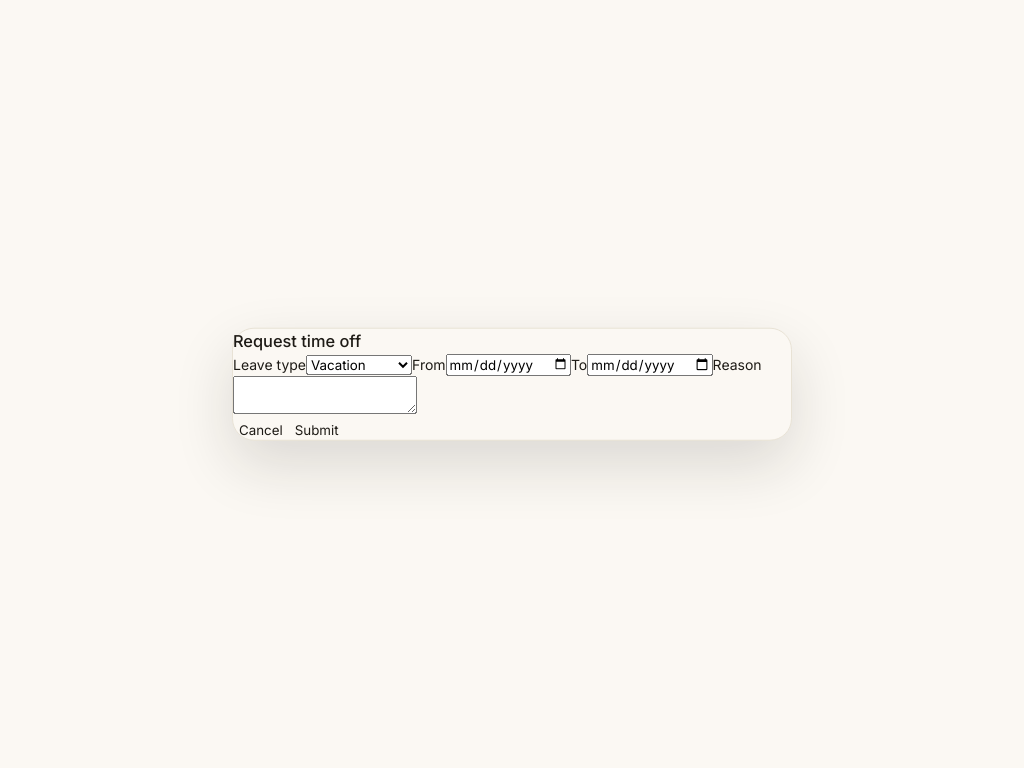
NewRequestModal › shows server validation error (zero days)
Select "Vacation" in the dropdown labelled "Leave type": (359, 364) x1=306 y1=354 x2=412 y2=374
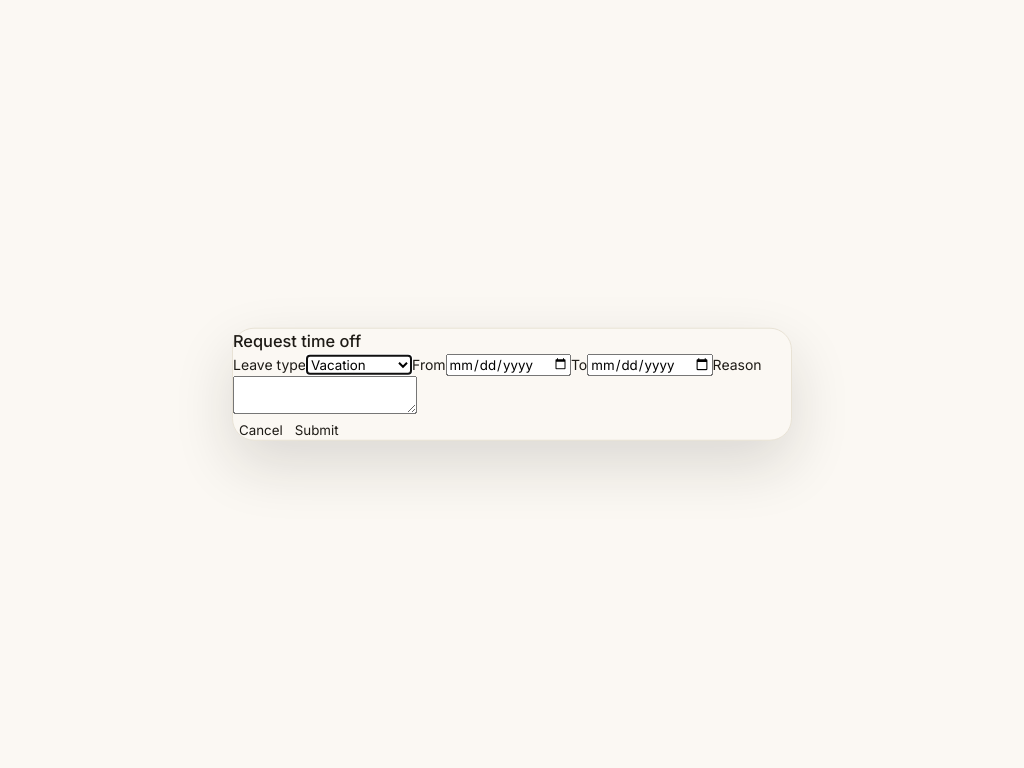
In the date field labelled "From": (508, 364) x1=446 y1=353 x2=571 y2=375, type "2026-06-06"
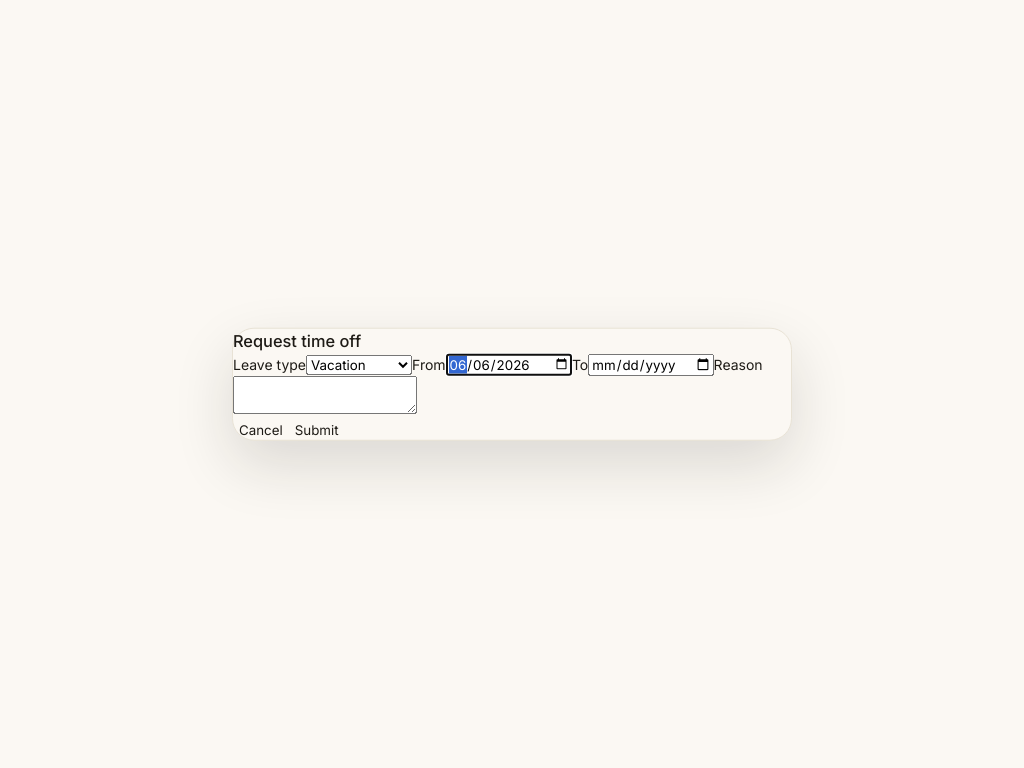
In the date field labelled "To": (651, 364) x1=588 y1=353 x2=714 y2=375, type "2026-06-07"
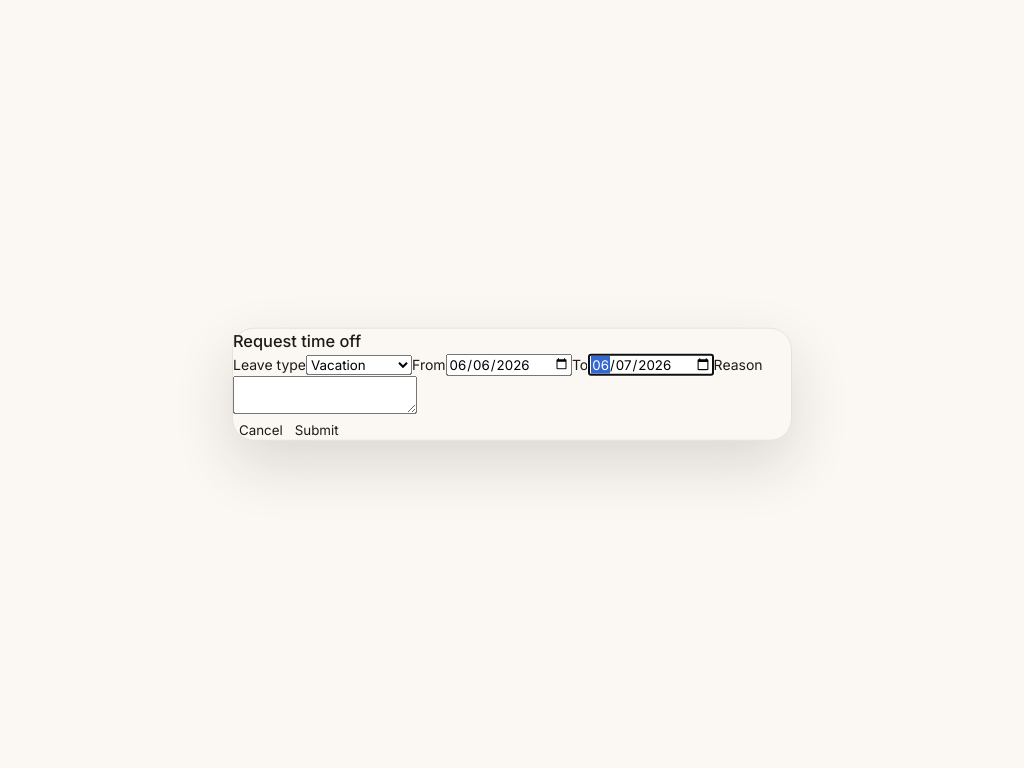
Click the button "Submit": (317, 429) x1=289 y1=420 x2=345 y2=438
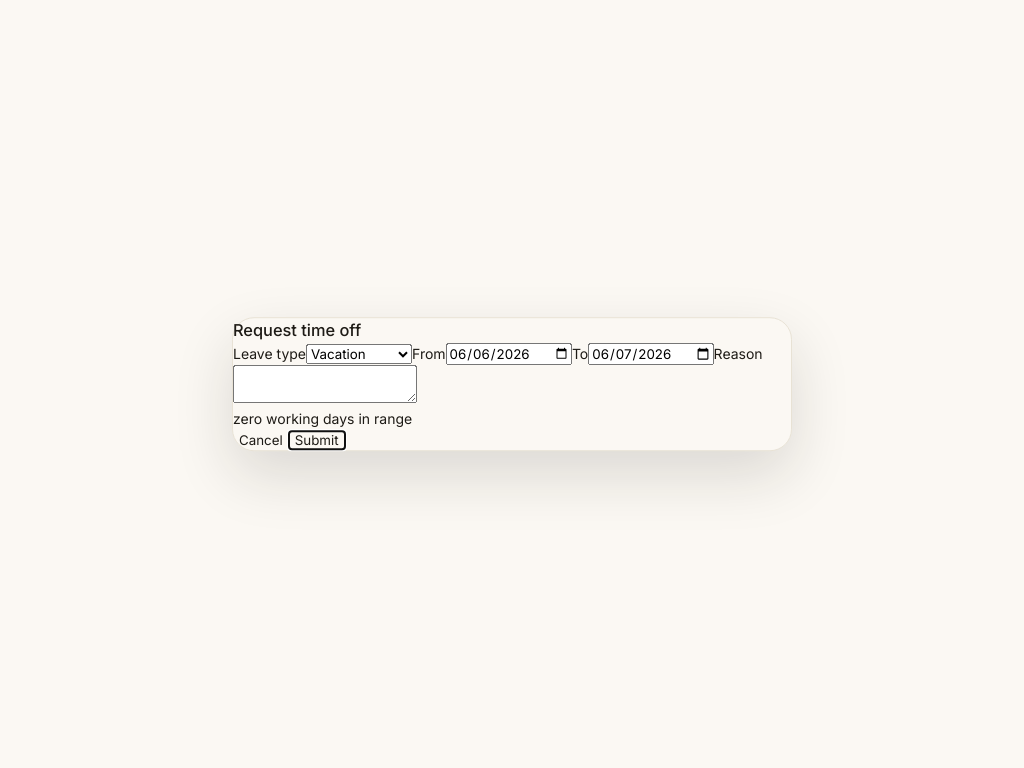
Expected: the text "zero working days in range" is shown, x1=233 y1=410 x2=412 y2=427
